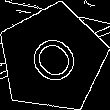O_SE: (20, 25, 85, 92)
